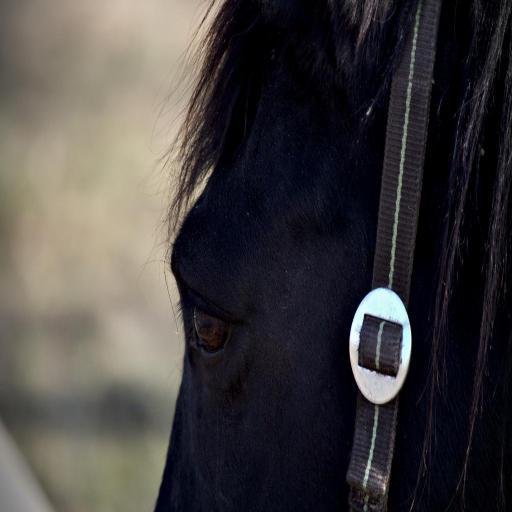Horse: (153, 0, 512, 512)
